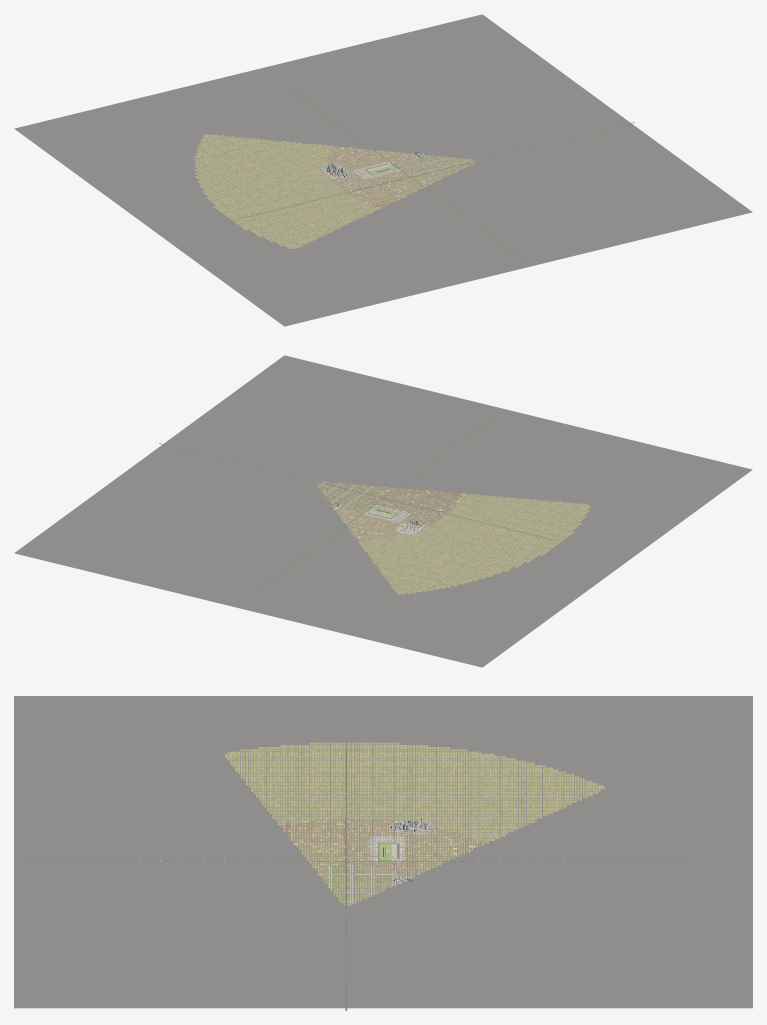
Rendered from land.glb.
3 renders of one model, top to bottom at view 1: azimuth 30°, elevation 25°; view 2: azimuth 150°, elevation 25°; view 3: azimuth 270°, elevation 25°, orthographic. The views are drawn at different scales.
Parts seen in each view (by area): view 1: decal-streets, decal-blocks, buildings, decal-boulevards, decal-freeway, decal-verge; view 2: decal-streets, decal-blocks, buildings, decal-boulevards, decal-freeway, decal-verge; view 3: decal-streets, decal-blocks, buildings, decal-boulevards, decal-freeway, decal-paved.
Part boxes in pixels (x1=…): decal-streets: x1=14, y1=14, x2=752, y2=326; decal-blocks: x1=193, y1=134, x2=477, y2=248; buildings: x1=309, y1=118, x2=591, y2=232; decal-boulevards: x1=207, y1=124, x2=478, y2=250; decal-freeway: x1=245, y1=86, x2=634, y2=262; decal-verge: x1=245, y1=86, x2=634, y2=261; decal-streets: x1=14, y1=355, x2=752, y2=667; decal-blocks: x1=316, y1=481, x2=591, y2=594; buildings: x1=202, y1=442, x2=484, y2=556; decal-boulevards: x1=312, y1=480, x2=578, y2=593; decal-freeway: x1=159, y1=413, x2=548, y2=589; decal-verge: x1=159, y1=414, x2=548, y2=588; decal-streets: x1=14, y1=696, x2=752, y2=1008; decal-blocks: x1=225, y1=742, x2=605, y2=905; buildings: x1=139, y1=793, x2=563, y2=982; decal-boulevards: x1=200, y1=752, x2=623, y2=908; decal-freeway: x1=28, y1=751, x2=686, y2=1010; decal-paved: x1=370, y1=821, x2=433, y2=883.
Bounding box in the file's own units: 92700 × 1144 × 92000.
